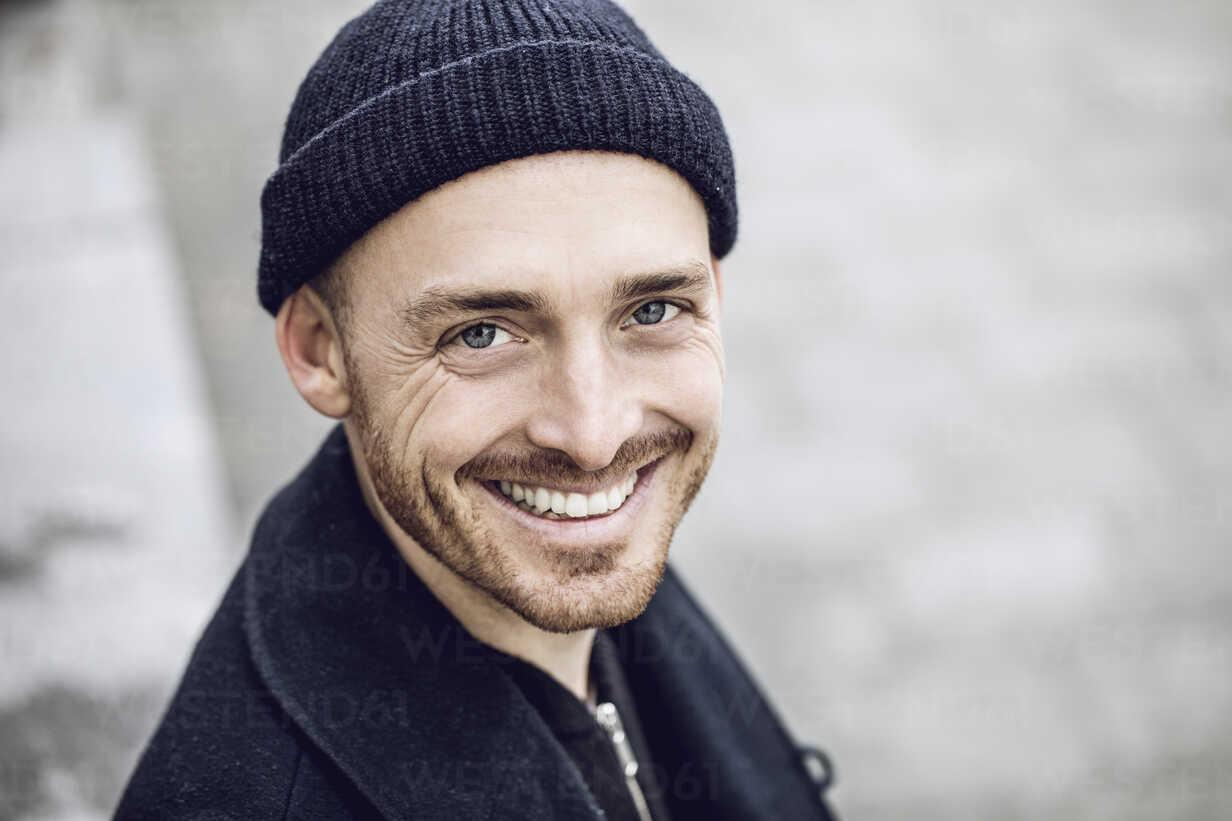cap: (244, 0, 762, 296)
